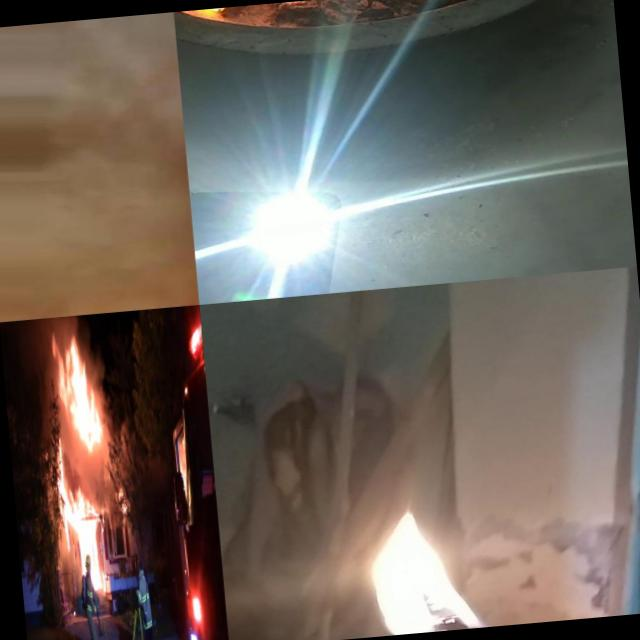fire: (349, 478, 512, 638), (49, 318, 104, 444), (61, 489, 102, 552)
smoke: (57, 53, 190, 216), (42, 206, 199, 317), (60, 443, 112, 492)
